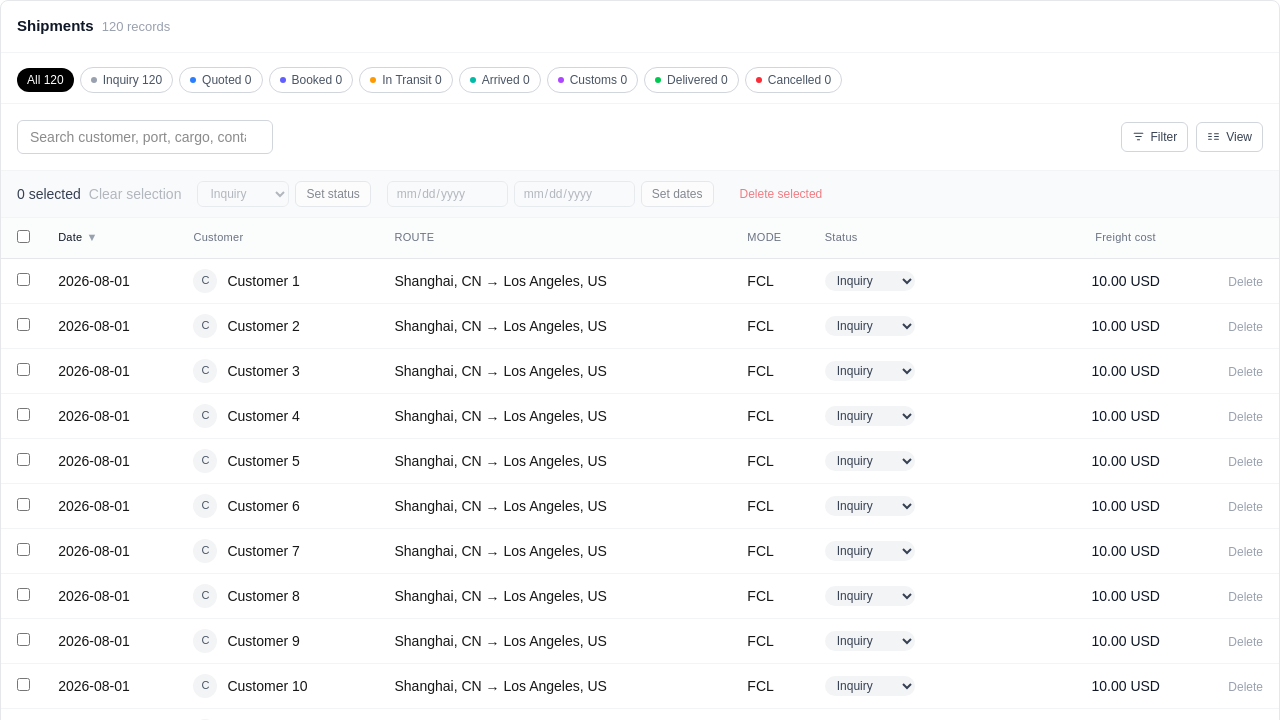
Test case: ShipmentsTable › bulk-updates the status of the selected rows and clears selection on success
Expected: the text "120 records" is shown, [102, 17, 170, 36]
Click the checkbox named "Select shipment 1": (24, 279) [17, 272, 30, 286]
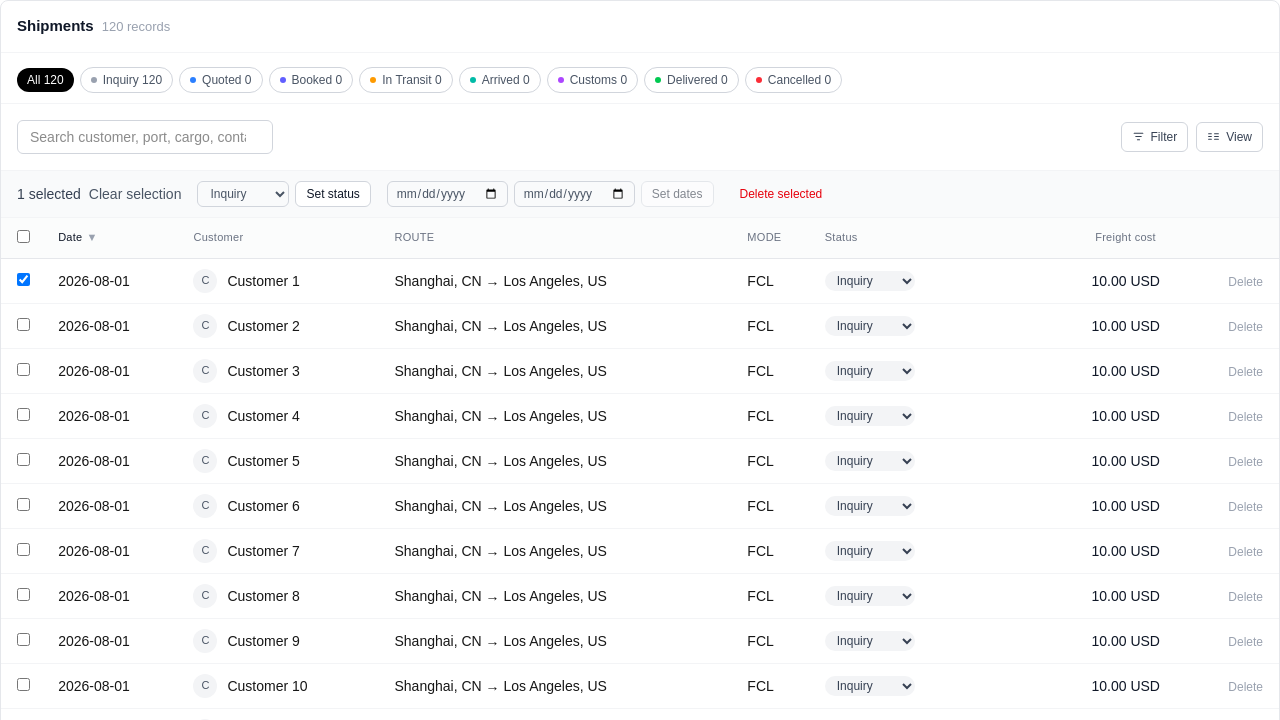
Click the checkbox named "Select shipment 2": (24, 324) [17, 318, 30, 330]
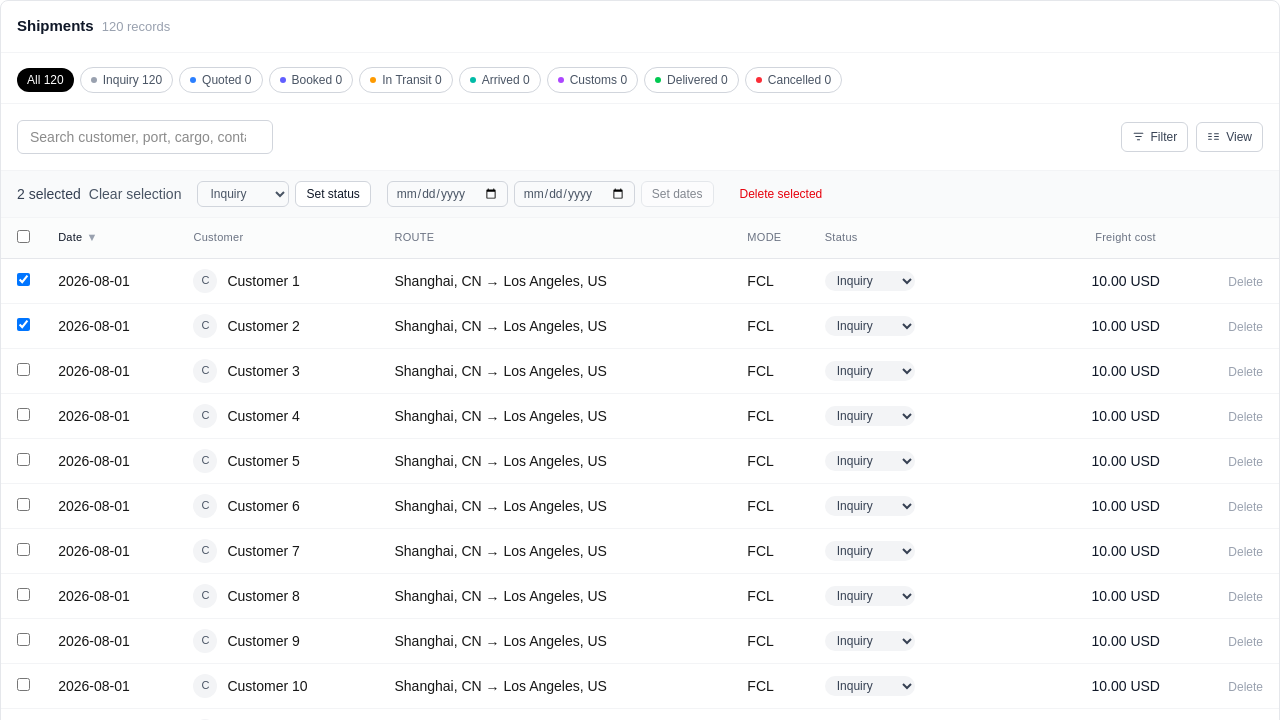
Expected: the text "2 selected" is shown, [17, 184, 81, 204]
Select "booked" in the dropdown named "Bulk status": (244, 194) [198, 180, 290, 206]
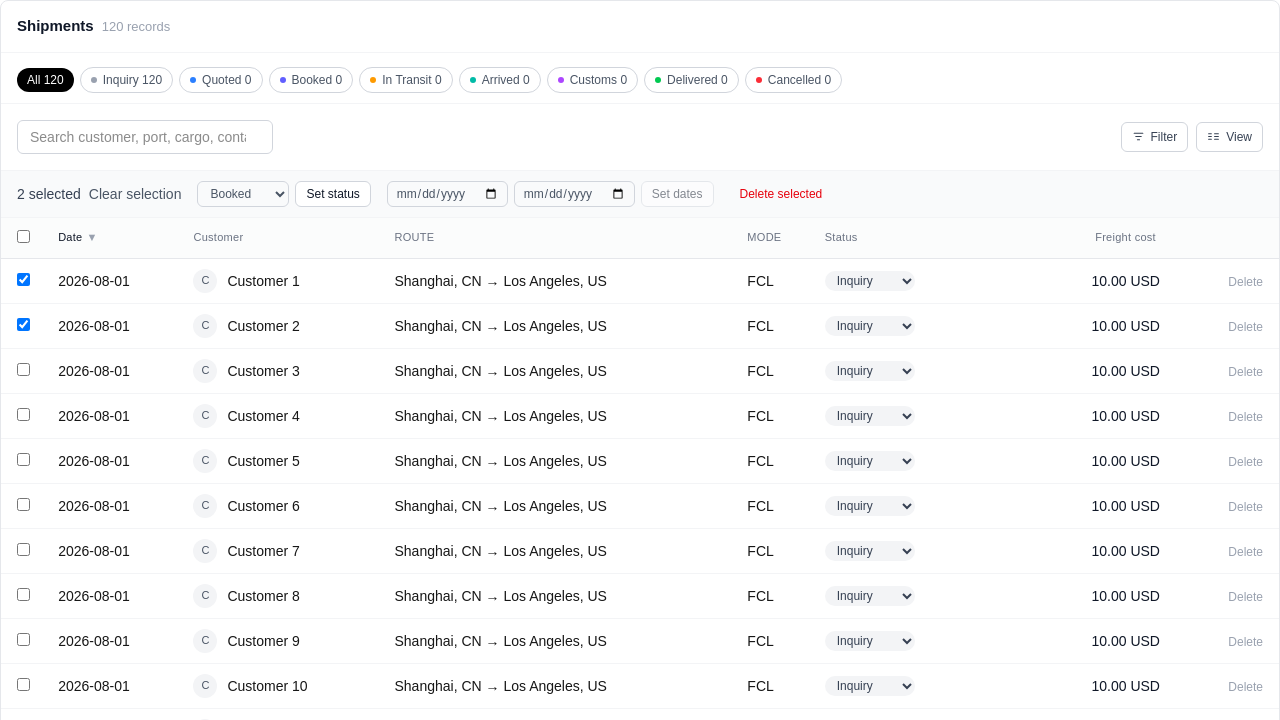
Click the button "Set status": (333, 194) [296, 180, 371, 206]
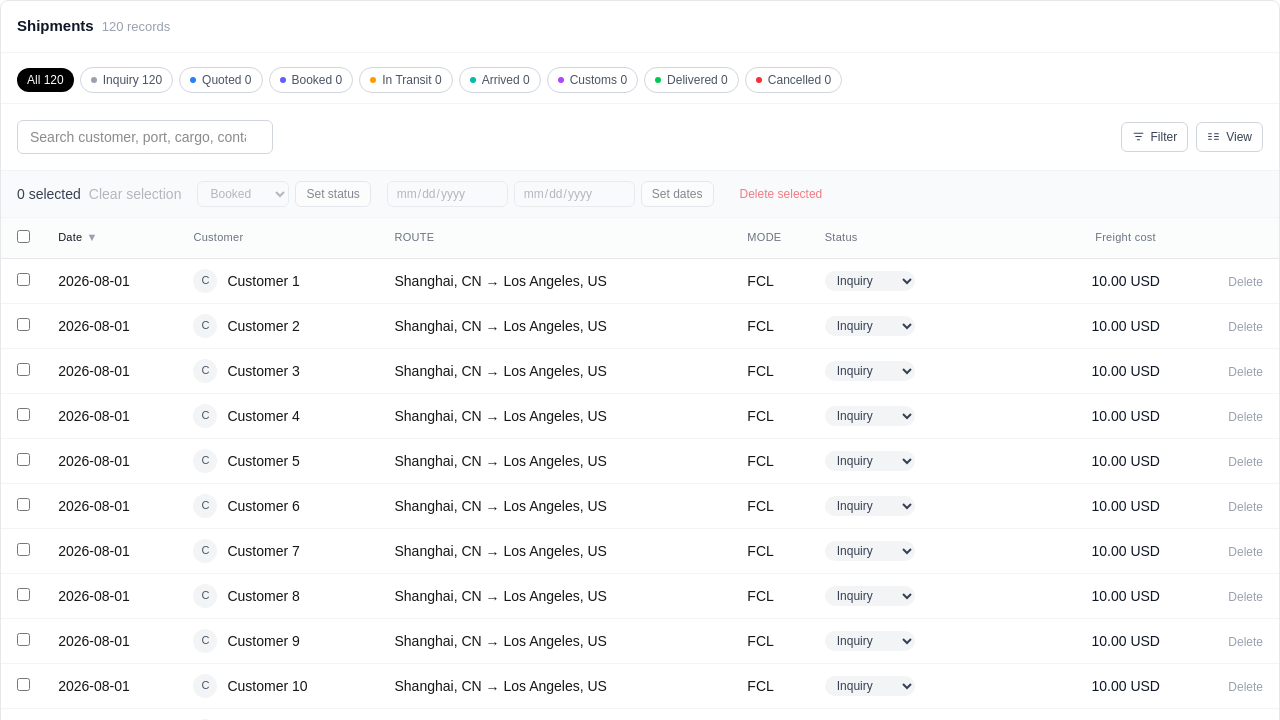
Expected: the text "0 selected" is shown, [17, 184, 81, 204]
